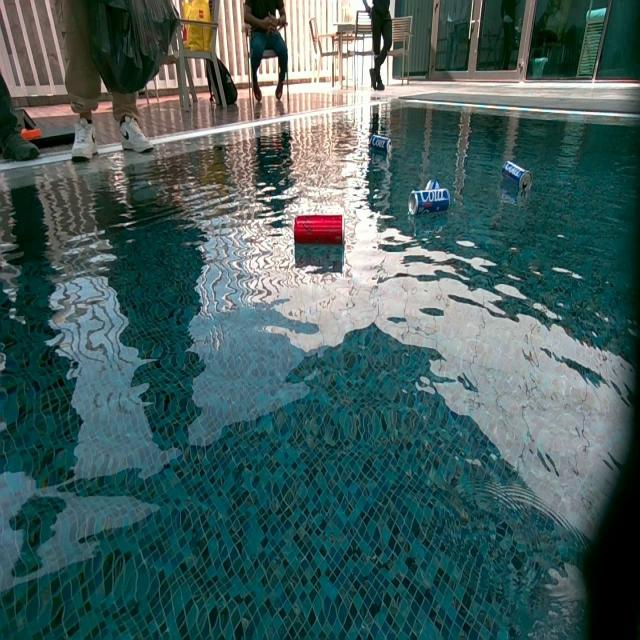Cans: (294, 216, 344, 249), (407, 188, 450, 220), (504, 161, 534, 191), (368, 136, 391, 154), (422, 178, 440, 190)
